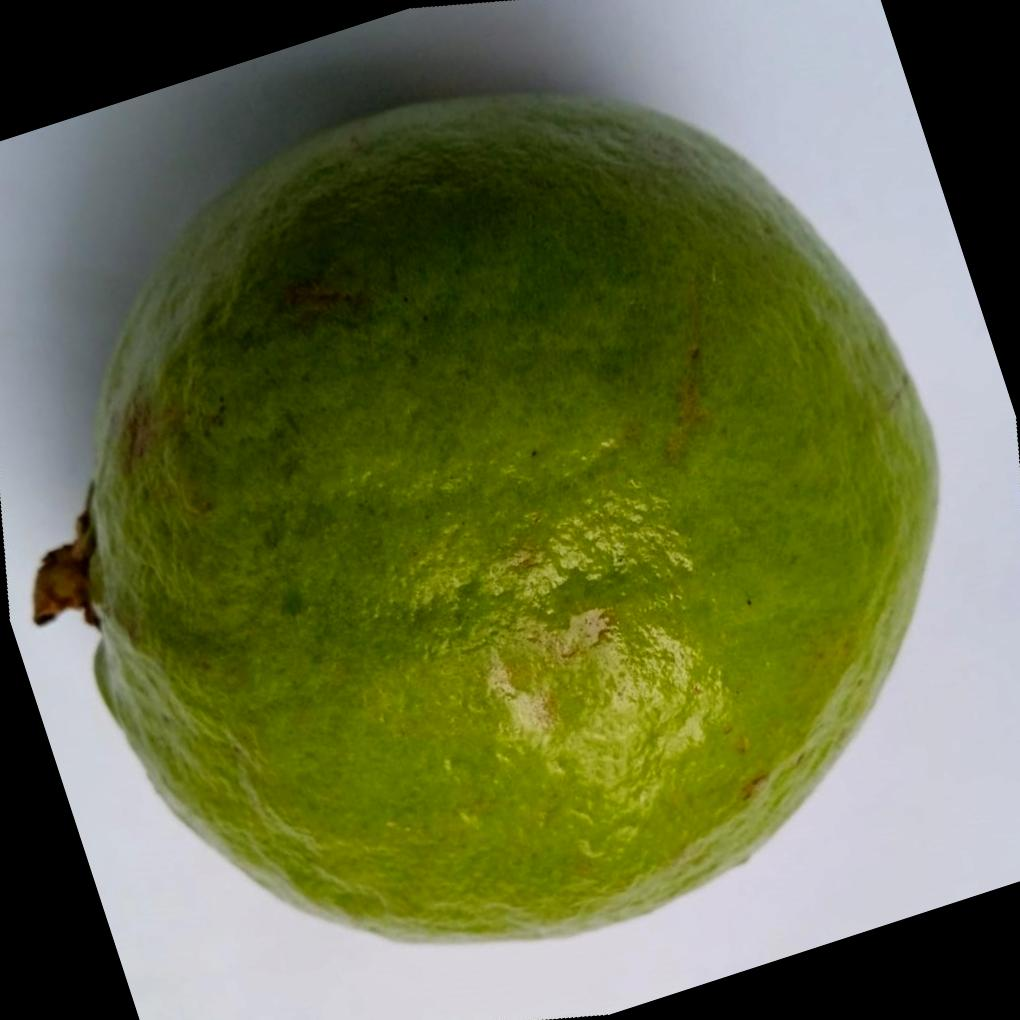FreshGuava: (46, 88, 945, 944)
